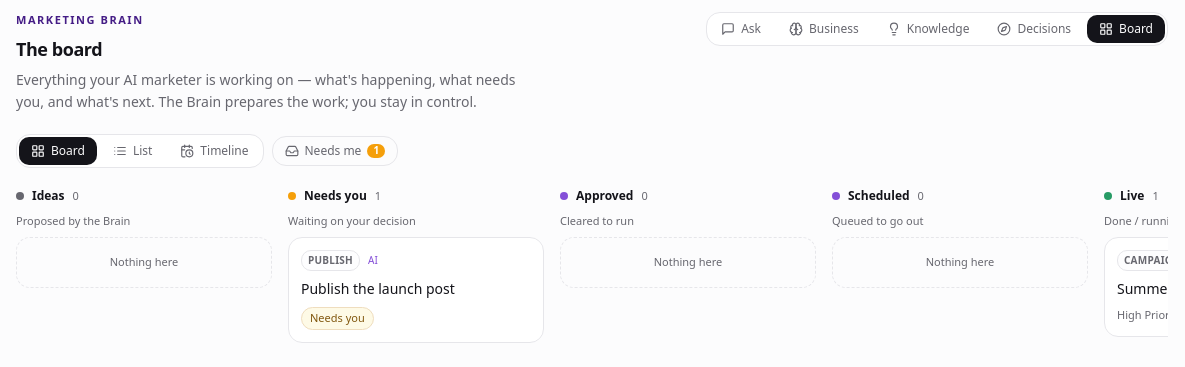
Test case: MarketingBoardPage › shows a 'Needs me' filter driven by real state
This screenshot has width=1185, height=367.
Expected: the element with test id "board-columns" is shown, [16,188,1168,350]
Click the button with test id "board-needs-me": (335, 151) [272,136,398,166]
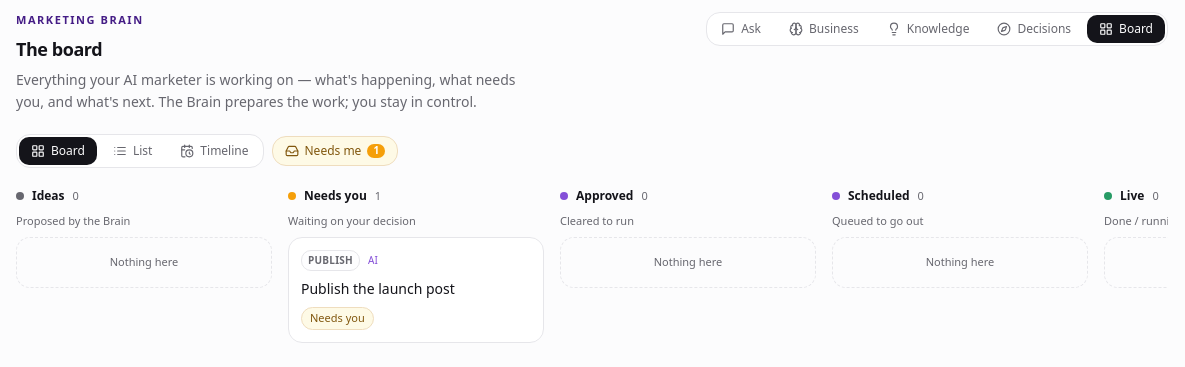
Expected: the text "Publish the launch post" is shown, [301,279,455,299]
Expected: the button "Summer sale campaign" is gone
